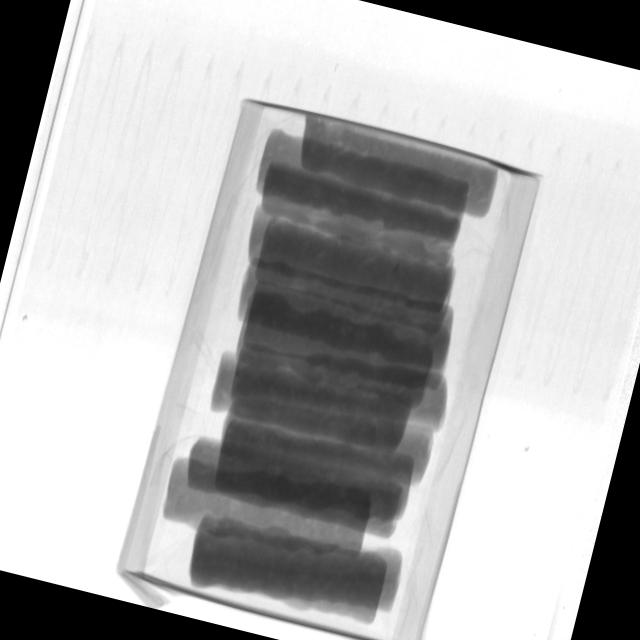ym: (393, 259, 404, 275)
